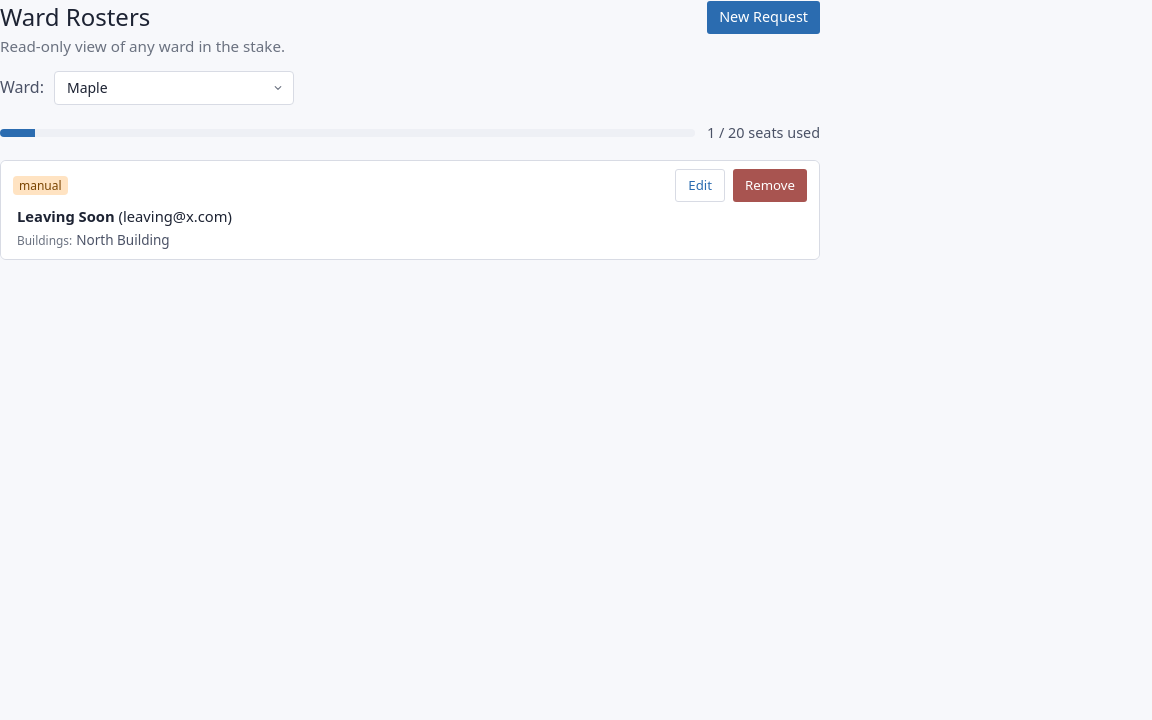
Test: <WardRostersPage /> › per-row Remove affordance › opens the removal confirmation dialog when Remove is clicked
The width and height of the screenshot is (1152, 720).
What coordinates should you click on to do the following:
click the button with test id "remove-btn-leaving@x.com"
I would click on:
 (770, 185)
Its box is [733, 169, 807, 202].
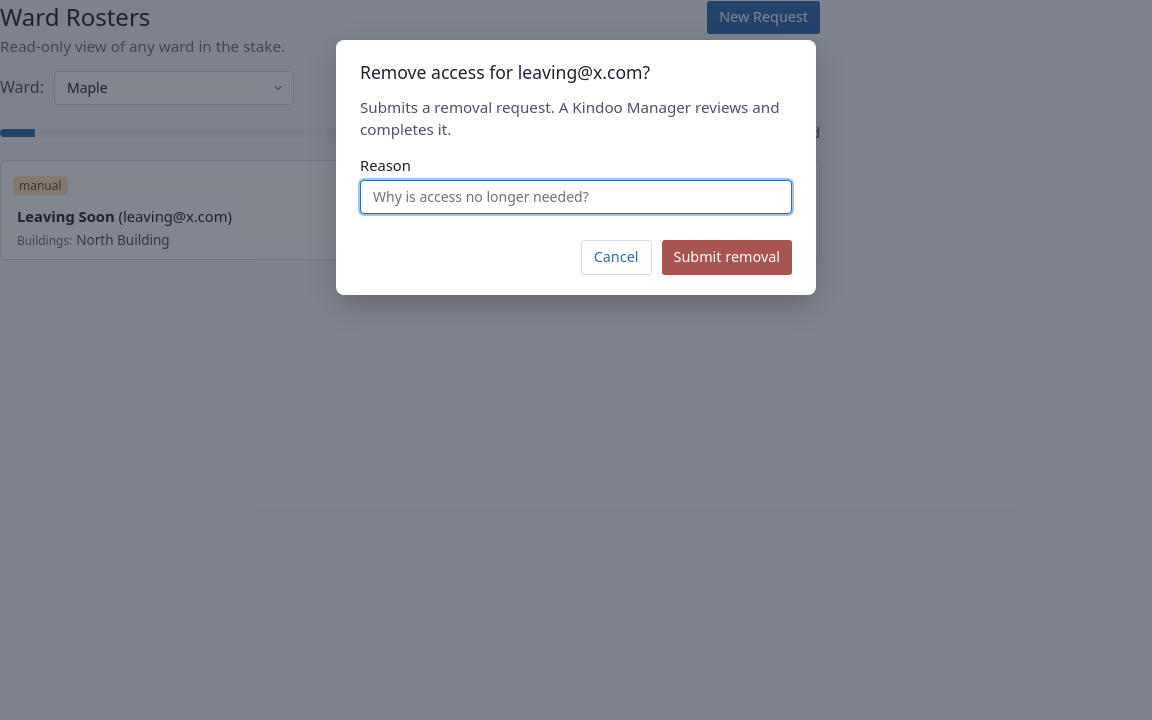
Expected: the form with test id "removal-dialog-form" is shown, [360, 155, 792, 275]
Expected: the button with test id "removal-confirm" is shown, [662, 240, 792, 275]
